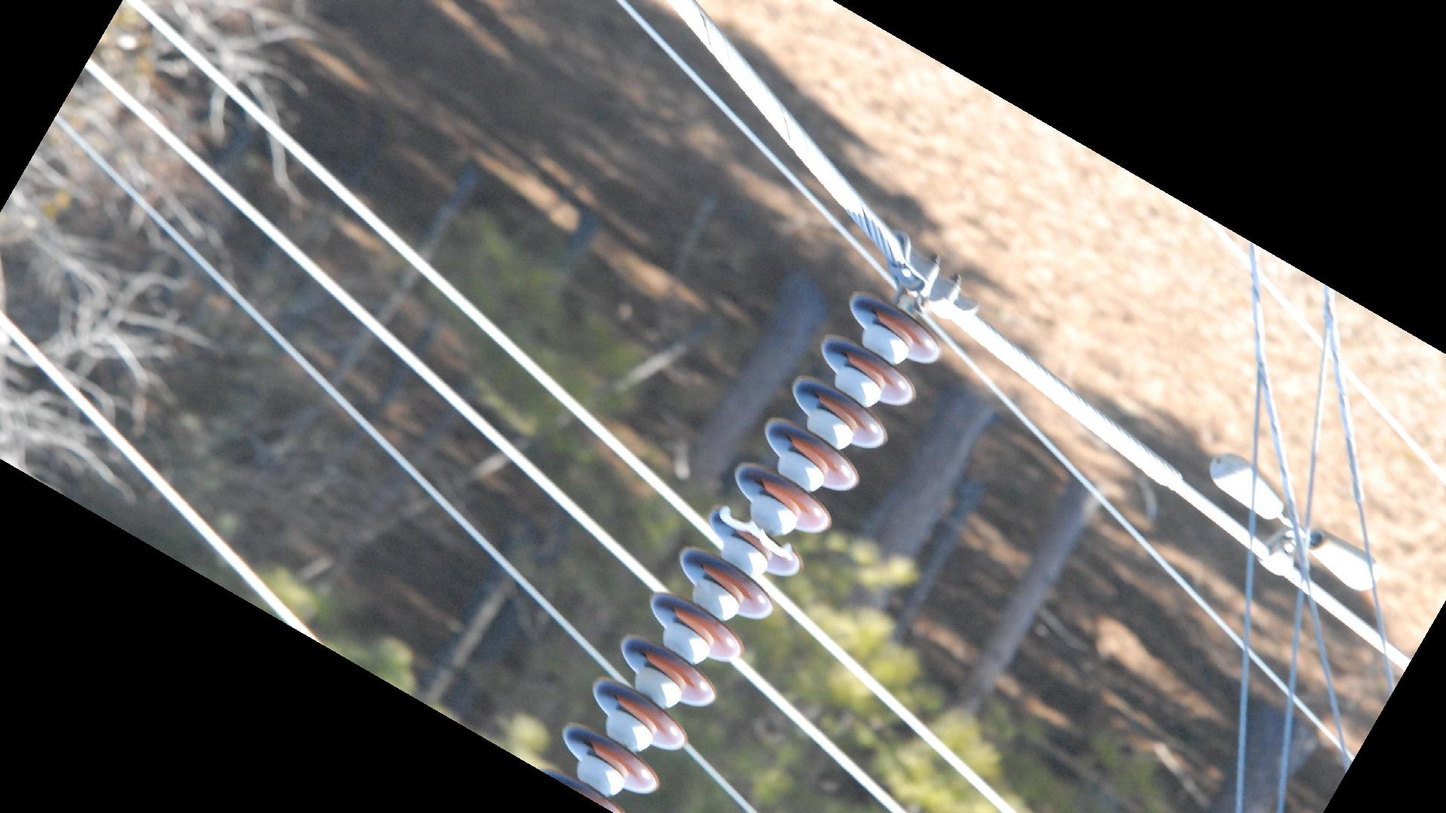insulator: (537, 282, 951, 813)
insulator_breakage: (714, 502, 797, 561)
